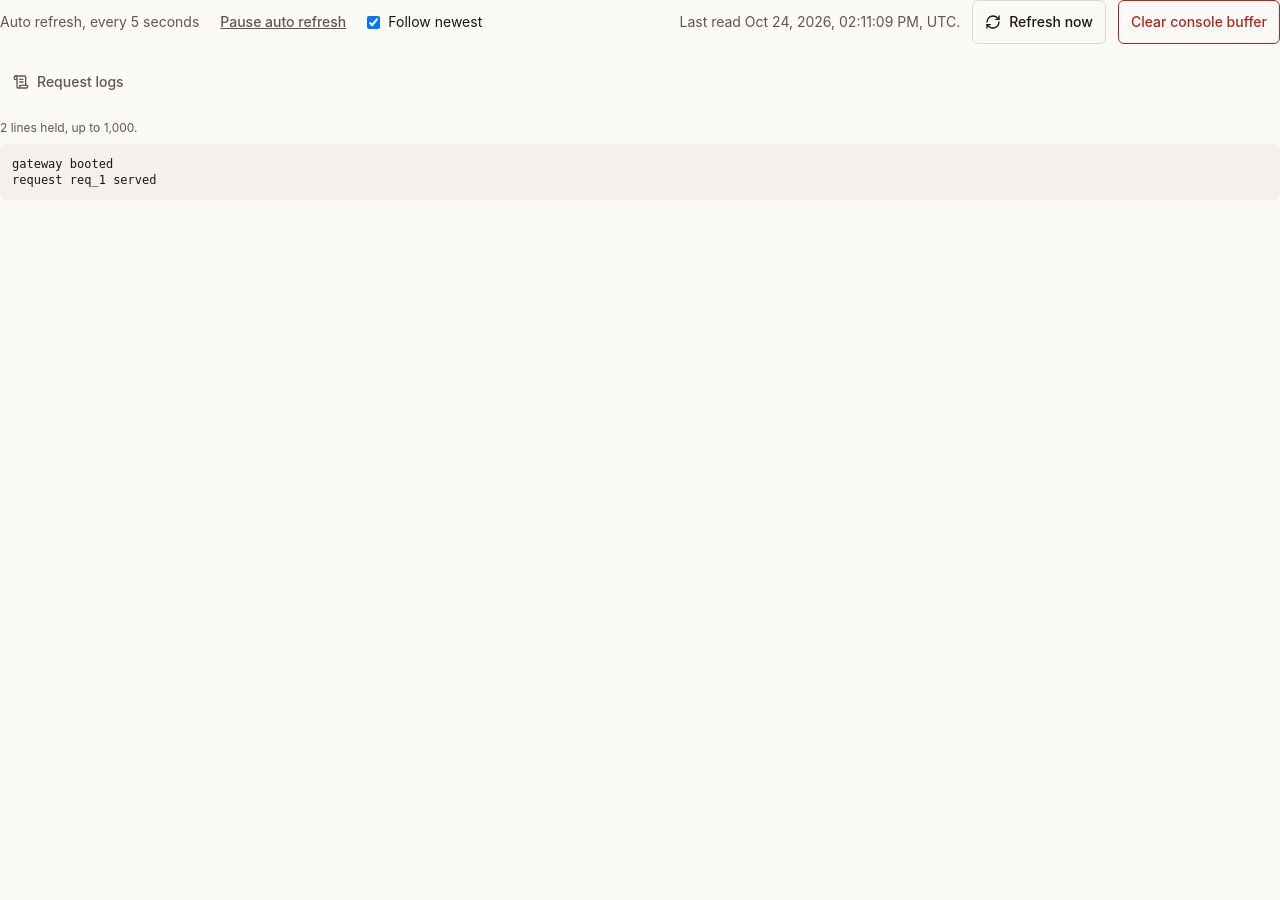
Test: ConsoleLog clear › empties the buffer on the server once confirmed, and reads what is left
Expected: the text "gateway booted request req_1 served" is shown, [0,144,1279,200]
Step 1. Click the button "Clear console buffer" → click(1199, 22), box [1118,0,1279,44]
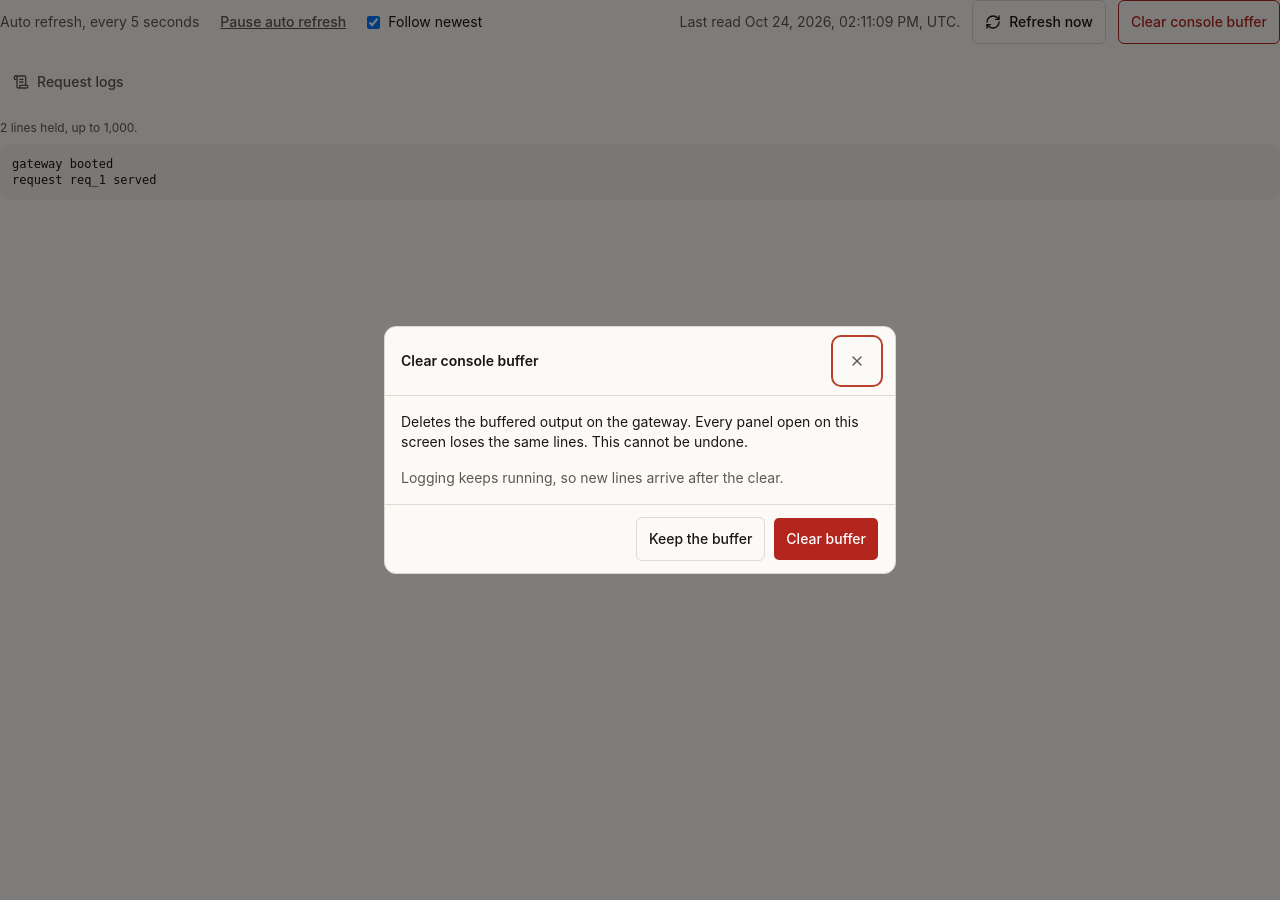
Step 2. Click the button "Clear buffer" → click(826, 539), box [773,517,879,561]
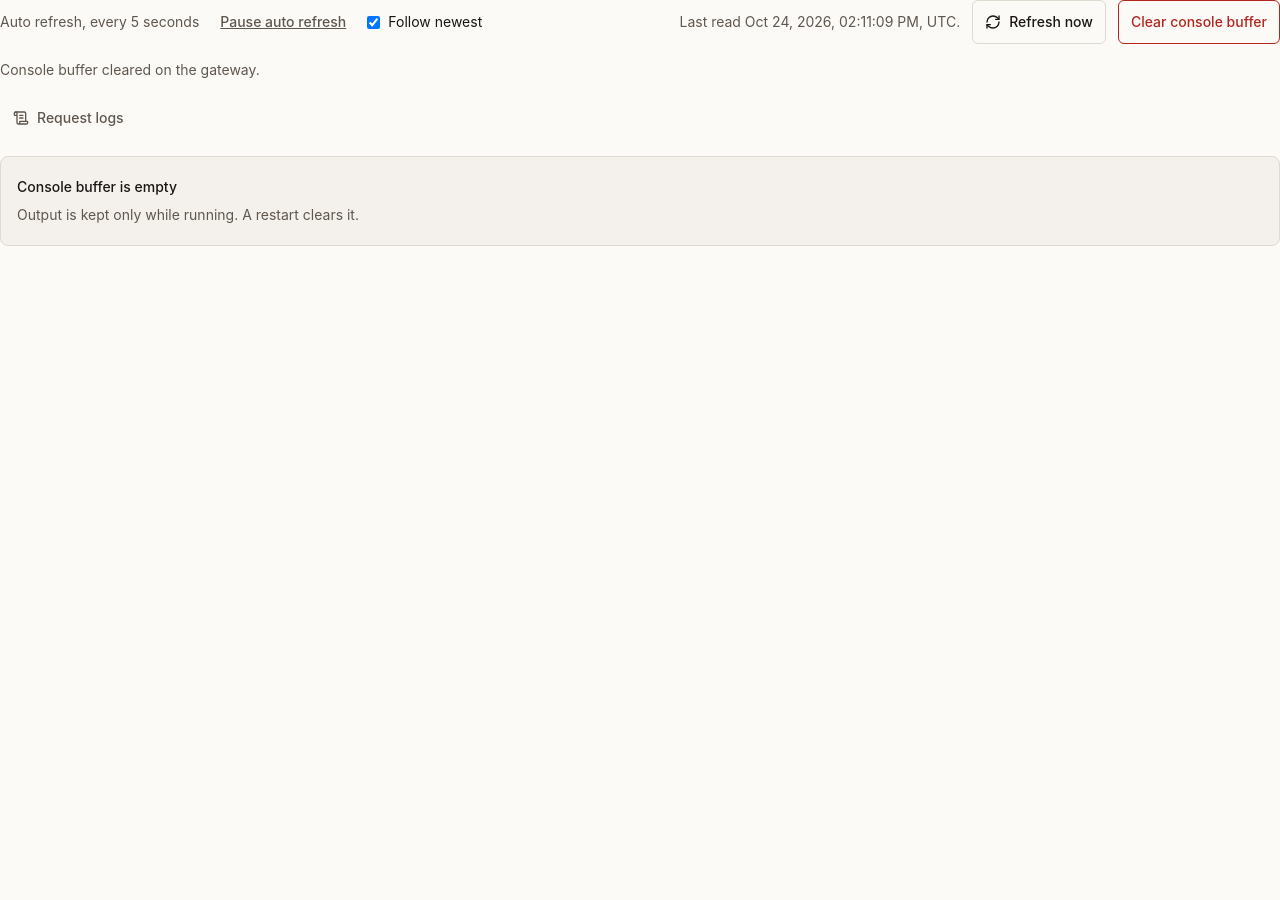
Now the text "Console buffer is empty" is shown, box [17,177,177,197]
Now the text "Console buffer cleared on the gateway." is shown, box [0,61,260,78]
